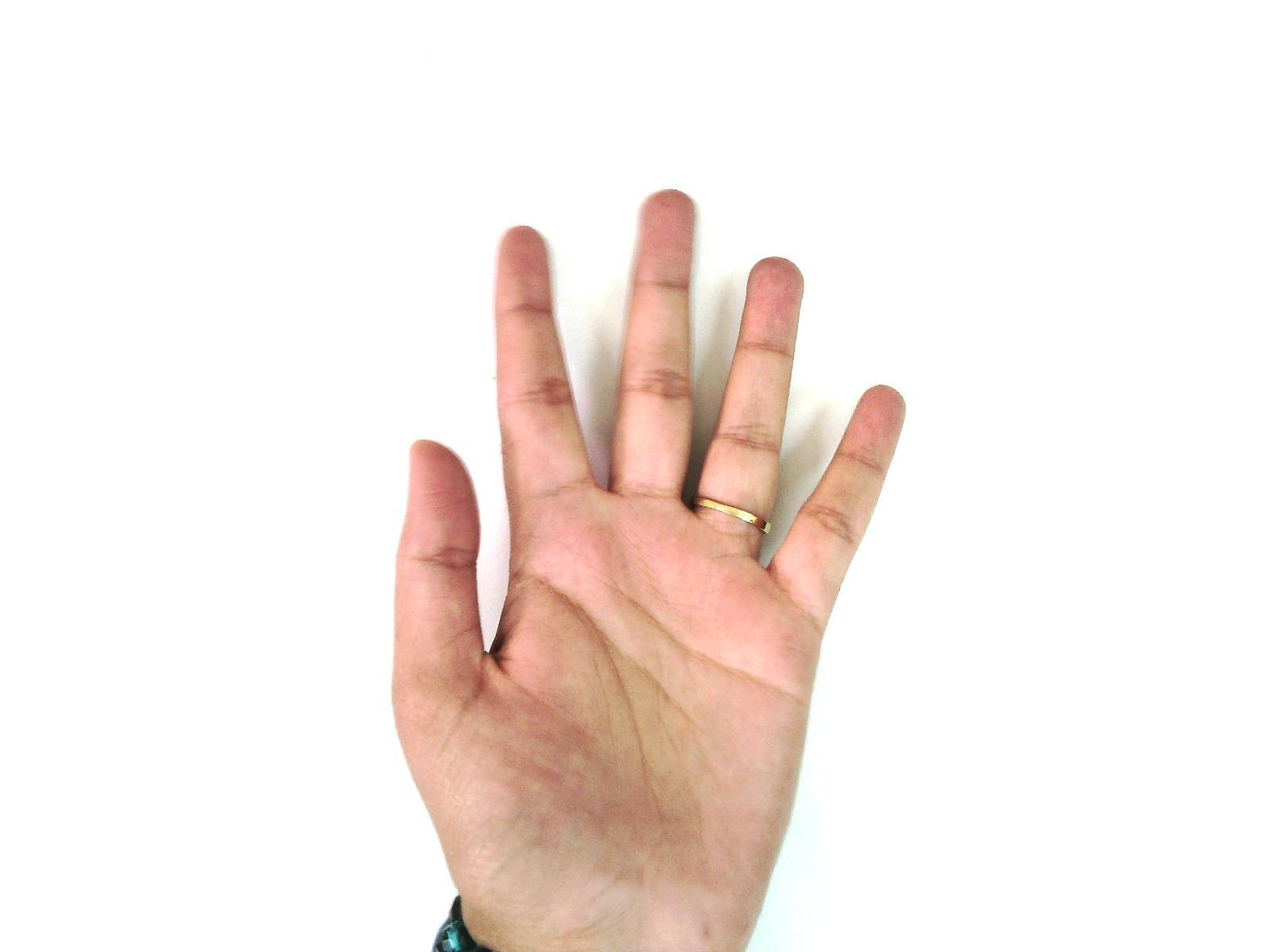open_palm: (388, 188, 909, 951)
